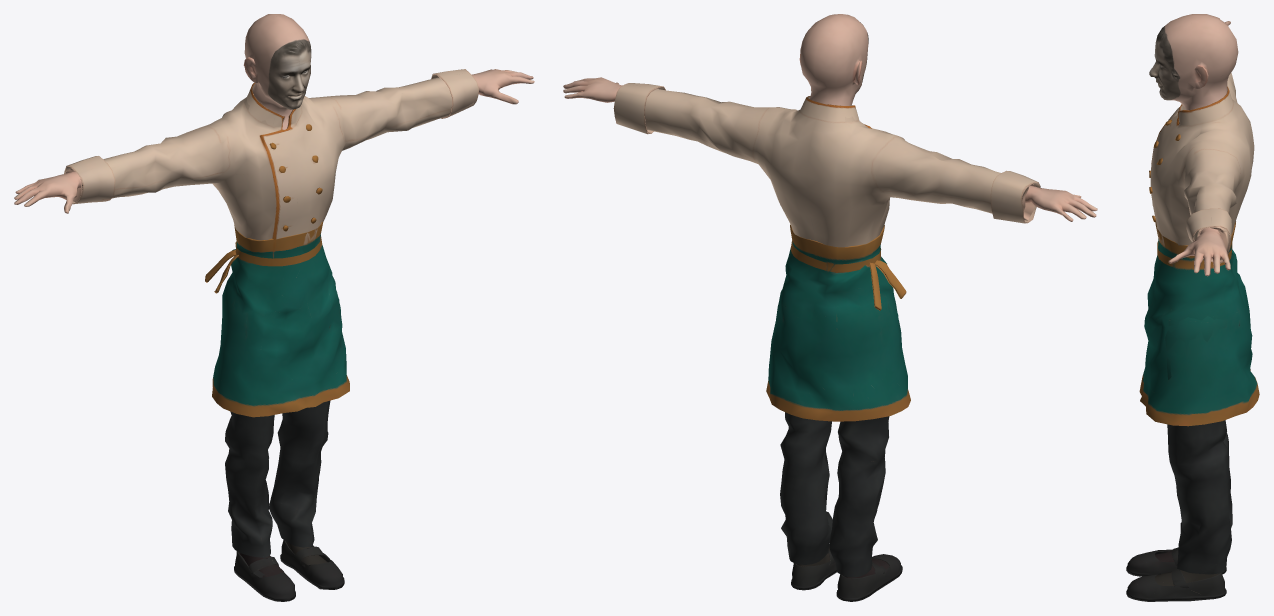
The model's file is raw-anwar.glb.
3 views of the same model, side by side, from view 1: azimuth 30°, elevation 25°; view 2: azimuth 150°, elevation 25°; view 3: azimuth 270°, elevation 25° (orthographic). The views are drawn at different scales.
Parts seen in each view (by area): view 1: geometry_0; view 2: geometry_0; view 3: geometry_0.
Part boxes in pixels (x1=…): geometry_0: x1=14, y1=14, x2=534, y2=601; geometry_0: x1=563, y1=14, x2=1097, y2=601; geometry_0: x1=1126, y1=14, x2=1259, y2=601.
Bounding box in the file's own units: 0.9331 × 0.9507 × 0.2026.
Materials: 1 (1 with a texture image).
